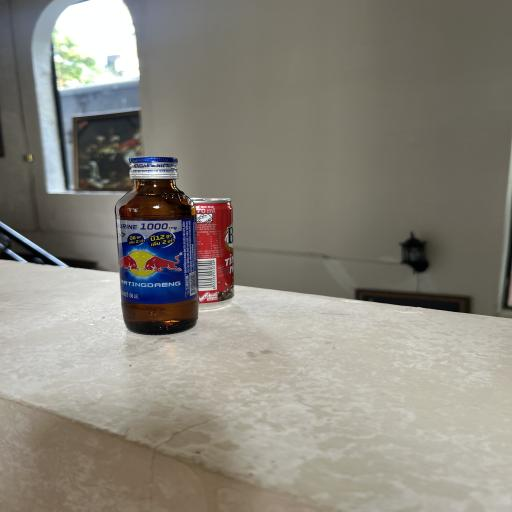birdy: (178, 192, 238, 312)
bo_huc: (114, 152, 198, 337)
